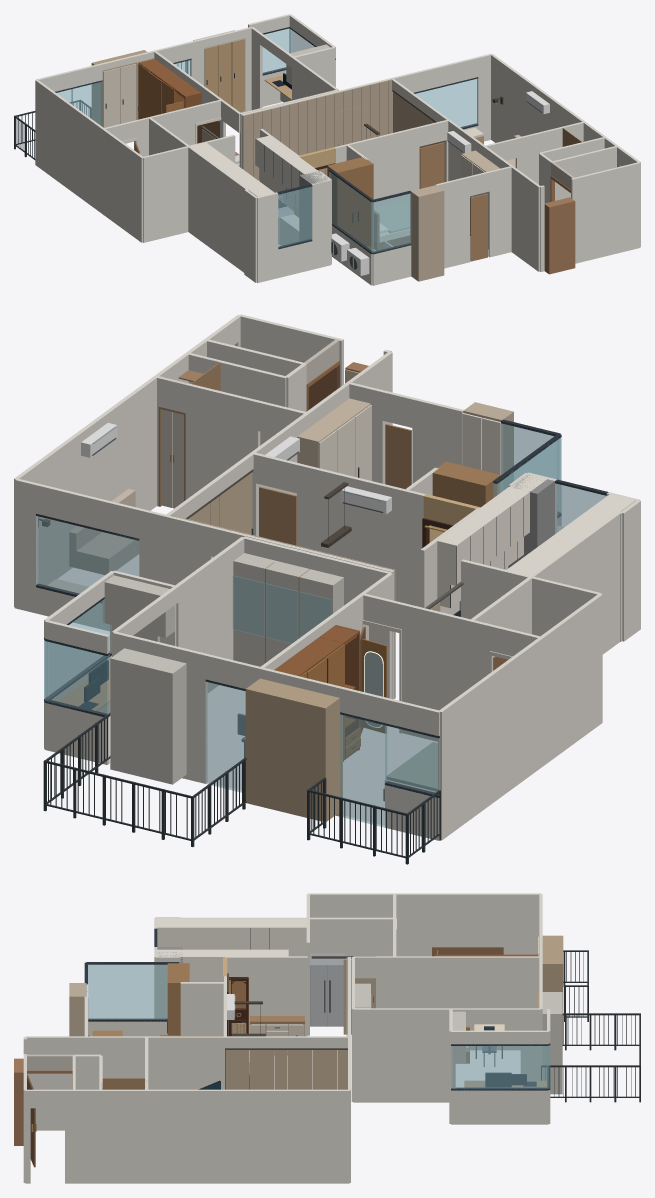
Rendered from A501-furnished-reference.glb.
3 renders of one model, top to bottom at view 1: azimuth 30°, elevation 25°; view 2: azimuth 150°, elevation 25°; view 3: azimuth 270°, elevation 25°, orthographic. The views are drawn at different scales.
Parts seen in each view (by area): view 1: Element 1, Element 19, Element 7, Element 189, Element 5, Element 12, Element 52, Element 4, Element 603, Element 597, Element 13, Element 126 (+67 smaller); view 2: Element 1, Element 371, Element 12, Element 52, Element 571, Element 565, Element 4, Element 56, Element 15, Element 35, Element 79, Element 672 (+75 smaller); view 3: Element 12, Element 79, Element 78, Element 1, Element 17, Element 653, Element 13, Element 25, Element 53, Element 89, Element 44, Element 6 (+41 smaller).
Part boxes in pixels (<box>): Element 1: <box>35,79,104,213</box>; Element 19: <box>571,162,640,263</box>; Element 7: <box>188,147,247,272</box>; Element 189: <box>243,93,336,181</box>; Element 5: <box>143,146,188,242</box>; Element 12: <box>491,54,585,142</box>; Element 52: <box>334,127,419,207</box>; Element 4: <box>102,128,143,242</box>; Element 603: <box>410,185,444,281</box>; Element 597: <box>327,157,373,247</box>; Element 13: <box>483,146,540,271</box>; Element 126: <box>544,197,575,274</box>; Element 1: <box>438,637,542,840</box>; Element 371: <box>245,678,342,821</box>; Element 12: <box>14,376,157,606</box>; Element 52: <box>297,463,425,606</box>; Element 571: <box>110,648,186,784</box>; Element 565: <box>233,553,343,666</box>; Element 4: <box>539,593,602,766</box>; Element 56: <box>402,603,491,741</box>; Element 15: <box>185,383,260,499</box>; Element 35: <box>36,516,139,594</box>; Element 79: <box>175,537,244,692</box>; Element 672: <box>436,474,546,585</box>; Element 12: <box>146,1089,349,1183</box>; Element 79: <box>353,1008,450,1102</box>; Element 78: <box>387,956,540,1049</box>; Element 1: <box>394,893,540,956</box>; Element 17: <box>65,1089,146,1183</box>; Element 653: <box>155,918,308,956</box>; Element 13: <box>25,1036,146,1130</box>; Element 25: <box>88,963,167,1019</box>; Element 53: <box>225,956,307,1036</box>; Element 89: <box>451,1044,548,1090</box>; Element 44: <box>146,1036,224,1089</box>; Element 6: <box>308,917,394,1008</box>.
Bounding box in the file's own units: 12.34 × 2.7 × 16.53.
